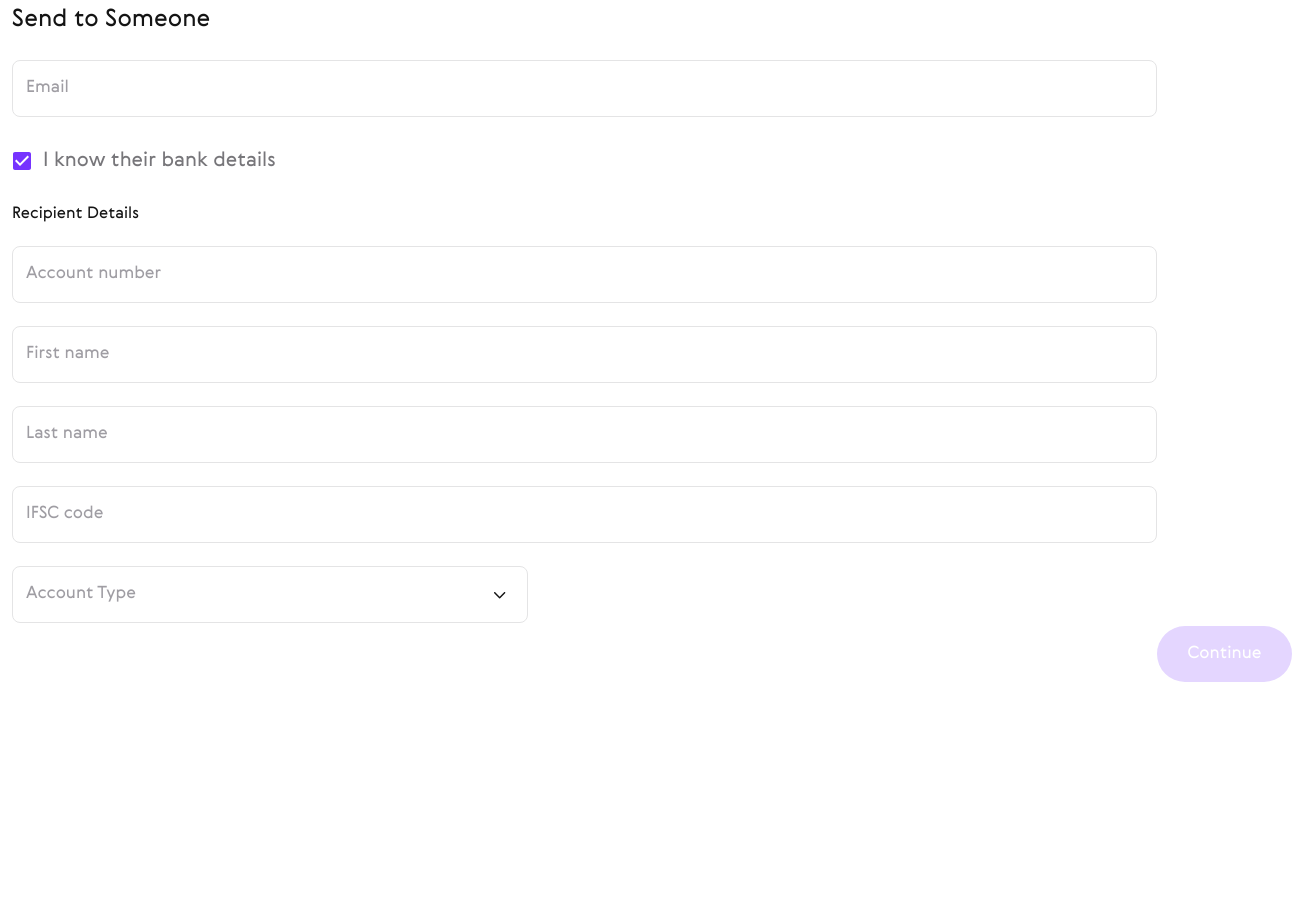
it: Recipient Details › should render messages when given validation fails
Type "mario.gabriel@gmail.com" into the field labelled "Email" at (584, 89), box [12,60,1157,117]
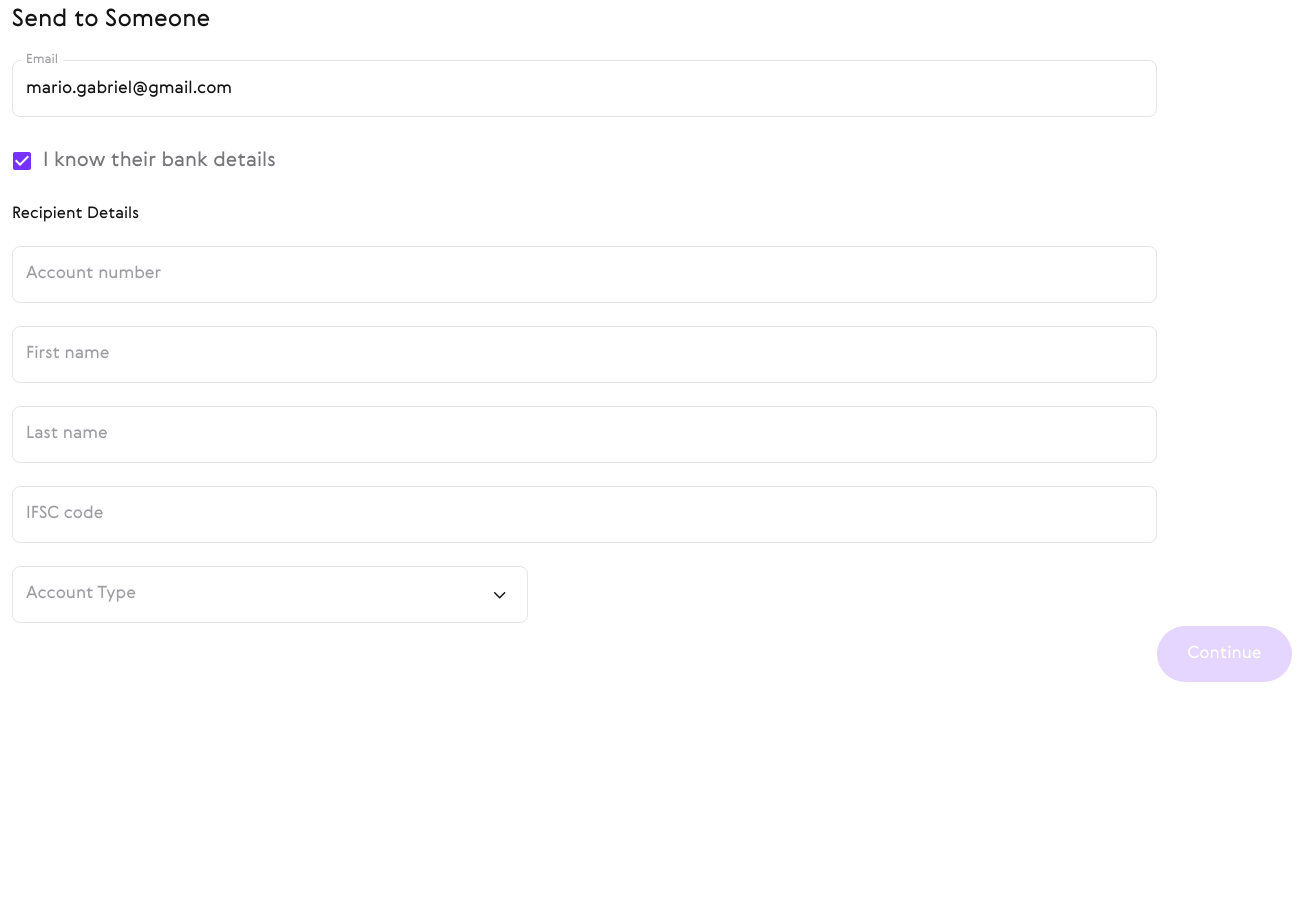
Replace the text in the field labelled "Email" with "user@gmail" at (584, 89), box [12,60,1157,117]
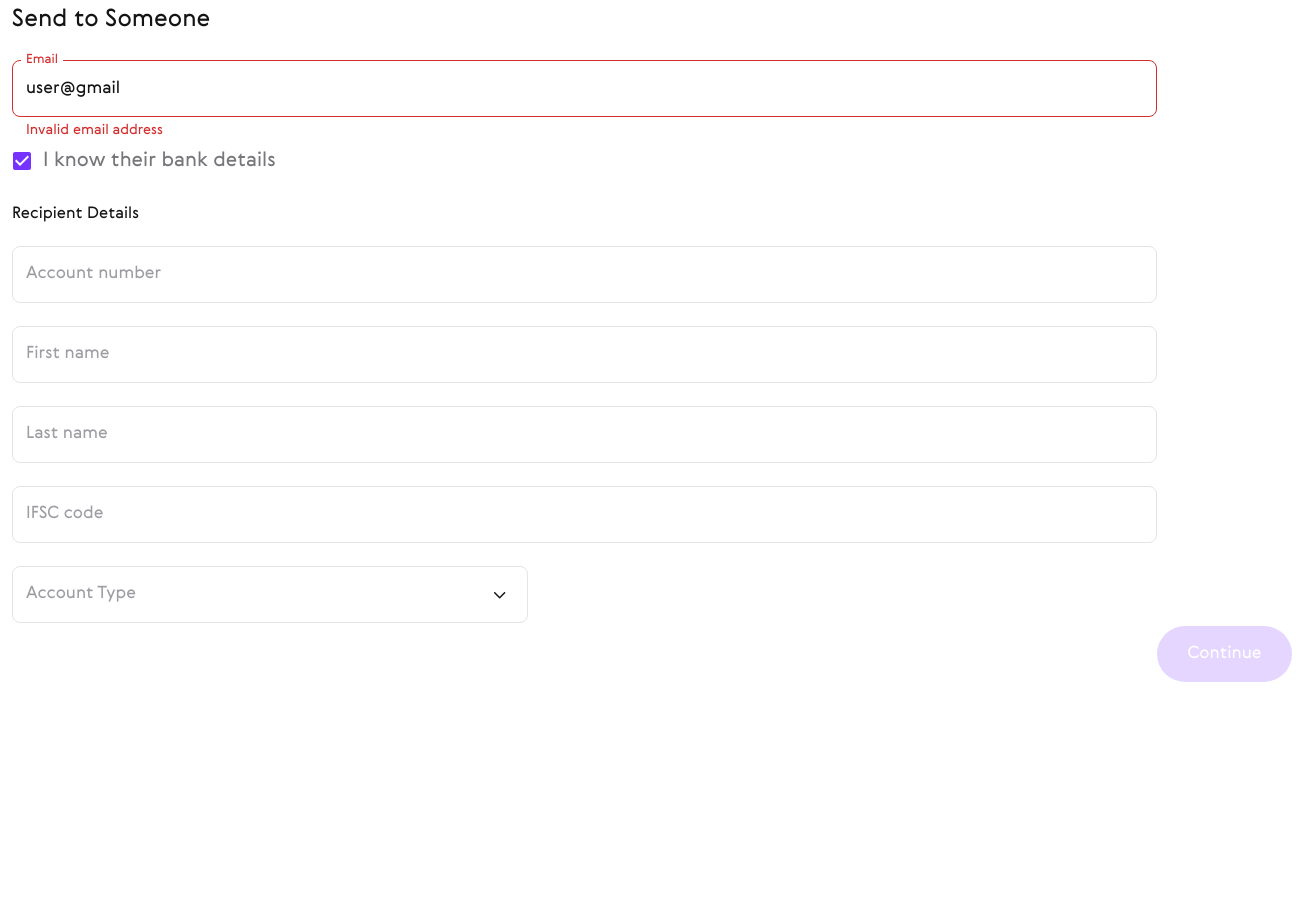
Type "123" into the field labelled "IFSC code" at (584, 515), box [12,486,1157,543]
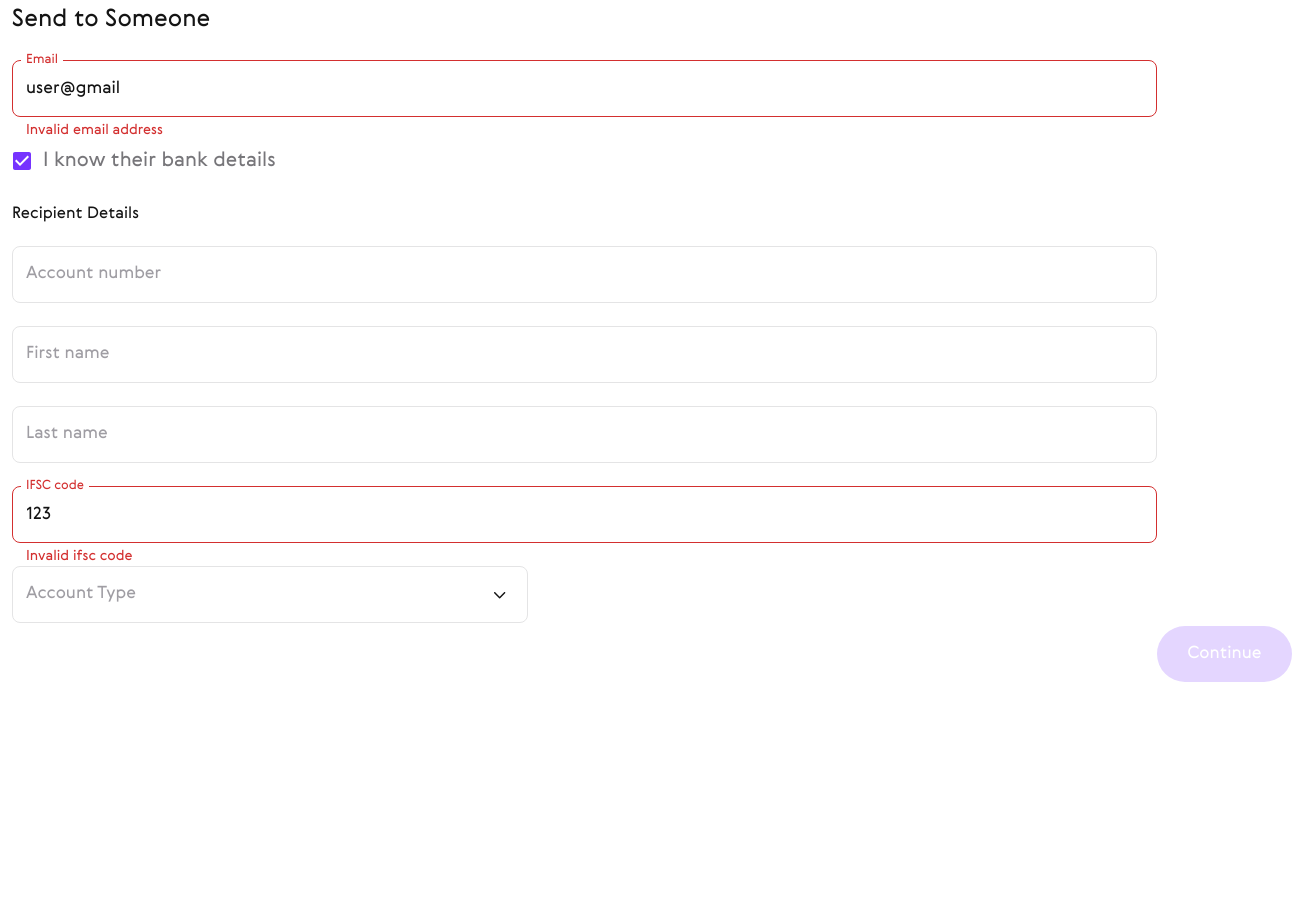
Type "133" into the number field labelled "Account number" at (584, 275), box [12,246,1157,303]
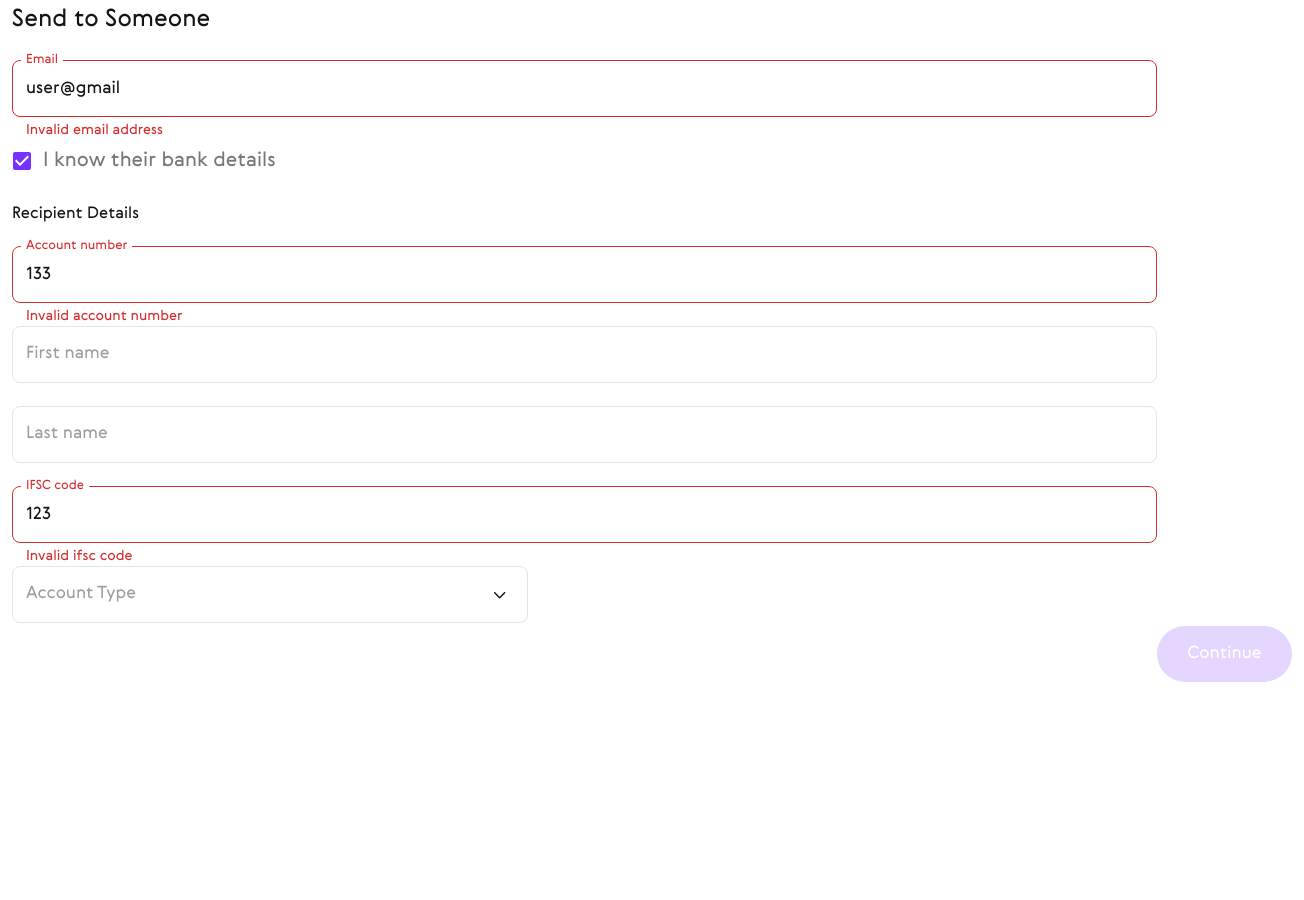
Now the text "Invalid email address" is shown, box [26,123,163,137]
Now the text "Invalid ifsc code" is shown, box [26,549,132,563]
Now the text "Invalid account number" is shown, box [26,309,183,323]
